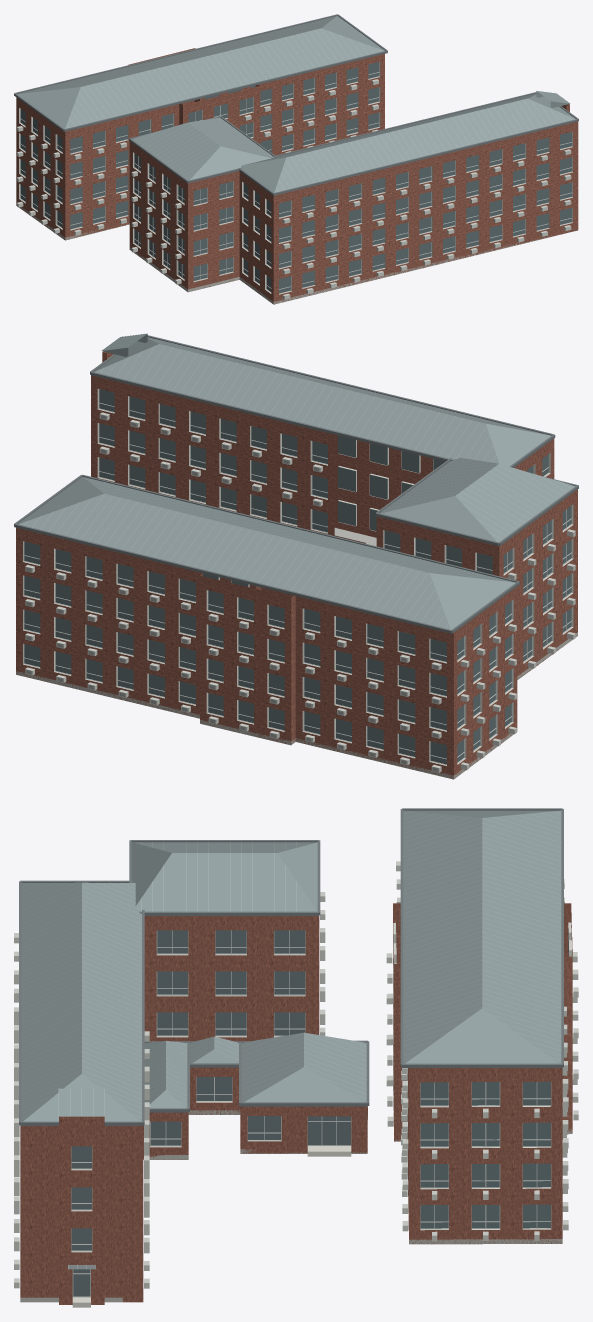
3 renders of one model, top to bottom at view 1: azimuth 30°, elevation 25°; view 2: azimuth 150°, elevation 25°; view 3: azimuth 270°, elevation 25°, orthographic. The views are drawn at different scales.
Parts seen in each view (by area): view 1: maeji-2__classroomFacades (×2), maeji-2__rearLongWingHip, maeji-2__foregroundWingHip, maeji-2__windowAndDoorFrames, maeji-2__rearReturnHip, maeji-2__recessedOpeningReveals, maeji-2__wallAirConditioners, maeji-2__rearLongWingHipFascia, maeji-2__foregroundWingHipFascia, maeji-2__originalFootprintFoundation, maeji-2__rearLongWingHipSeams, maeji-2__foregroundWingHipSeams (+1 smaller); view 2: maeji-2__classroomFacades (×2), maeji-2__rearLongWingHip, maeji-2__foregroundWingHip, maeji-2__rearReturnHip, maeji-2__windowAndDoorFrames, maeji-2__wallAirConditioners (×2), maeji-2__recessedOpeningReveals, maeji-2__rearLongWingHipFascia, maeji-2__foregroundWingHipFascia, maeji-2__originalFootprintFoundation, maeji-2__rearLongWingHipSeams, maeji-2__foregroundWingHipSeams (+1 smaller); view 3: maeji-2__rearLongWingHip, maeji-2__classroomFacades (×2), maeji-2__foregroundWingHip, maeji-2__lobbyHighRearJoin, maeji-2__foregroundStairFlanks, maeji-2__rearReturnHip, maeji-2__centralLowLobbyRoof, maeji-2__wallAirConditioners, maeji-2__lobbyHighRearJoin__window, maeji-2__projectedStairEnd, maeji-2__windowAndDoorFrames, maeji-2__rearLongWingHipFascia (+20 smaller).
Part boxes in pixels (box(x1,y1,x2,y2)): maeji-2__classroomFacades (×2): box(16, 48, 578, 304); maeji-2__rearLongWingHip: box(17, 16, 384, 128); maeji-2__foregroundWingHip: box(241, 93, 575, 192); maeji-2__windowAndDoorFrames: box(20, 62, 572, 293); maeji-2__rearReturnHip: box(132, 117, 273, 180); maeji-2__recessedOpeningReveals: box(19, 62, 572, 294); maeji-2__wallAirConditioners: box(17, 79, 571, 299); maeji-2__rearLongWingHipFascia: box(14, 14, 387, 131); maeji-2__foregroundWingHipFascia: box(238, 92, 578, 195); maeji-2__originalFootprintFoundation: box(16, 204, 573, 304); maeji-2__rearLongWingHipSeams: box(21, 17, 379, 127); maeji-2__foregroundWingHipSeams: box(276, 101, 570, 191); maeji-2__classroomFacades (×2): box(16, 375, 577, 778); maeji-2__rearLongWingHip: box(18, 476, 515, 629); maeji-2__foregroundWingHip: box(94, 337, 551, 466); maeji-2__rearReturnHip: box(379, 457, 575, 542); maeji-2__windowAndDoorFrames: box(23, 389, 572, 765); maeji-2__wallAirConditioners (×2): box(25, 412, 575, 772); maeji-2__recessedOpeningReveals: box(23, 389, 573, 765); maeji-2__rearLongWingHipFascia: box(14, 474, 519, 633); maeji-2__foregroundWingHipFascia: box(90, 334, 555, 467); maeji-2__originalFootprintFoundation: box(16, 528, 577, 779); maeji-2__rearLongWingHipSeams: box(25, 478, 507, 627); maeji-2__foregroundWingHipSeams: box(100, 338, 544, 461); maeji-2__rearLongWingHip: box(403, 810, 561, 1063); maeji-2__classroomFacades (×2): box(319, 903, 572, 1244); maeji-2__foregroundWingHip: box(21, 882, 141, 1121); maeji-2__lobbyHighRearJoin: box(144, 916, 318, 1041); maeji-2__foregroundStairFlanks: box(20, 1126, 143, 1302); maeji-2__rearReturnHip: box(132, 842, 317, 911); maeji-2__centralLowLobbyRoof: box(241, 1032, 366, 1102); maeji-2__wallAirConditioners: box(14, 861, 578, 1288); maeji-2__lobbyHighRearJoin__window: box(157, 930, 305, 1035); maeji-2__projectedStairEnd: box(59, 1116, 104, 1304); maeji-2__windowAndDoorFrames: box(71, 922, 569, 1297); maeji-2__rearLongWingHipFascia: box(400, 808, 563, 1067).
Size of the model in its own units: 60.84 by 17.92 by 45.01.
10 materials, 1 textured.
